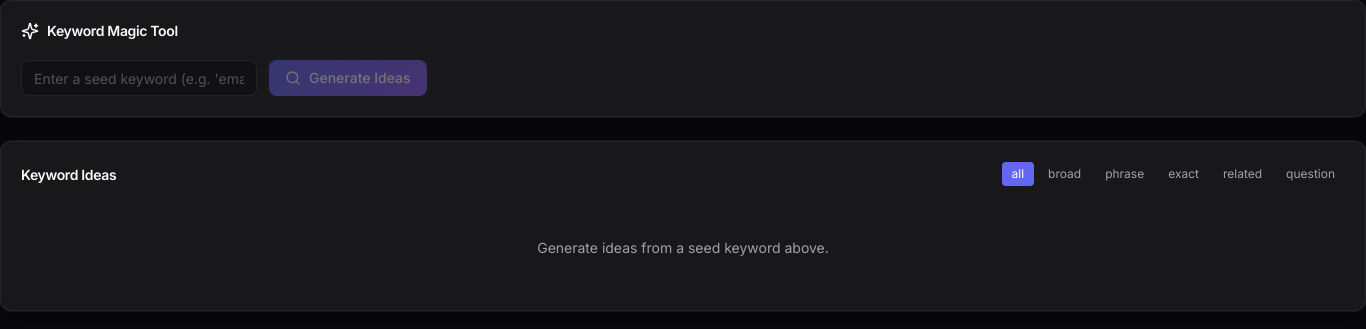
Test: KeywordMagicTool › enables Generate when a seed is typed
Step 1. Type "seo" into the field with placeholder "Enter a seed keyword (e.g. 'email marketing')" → (139, 78), box [21,60,257,96]
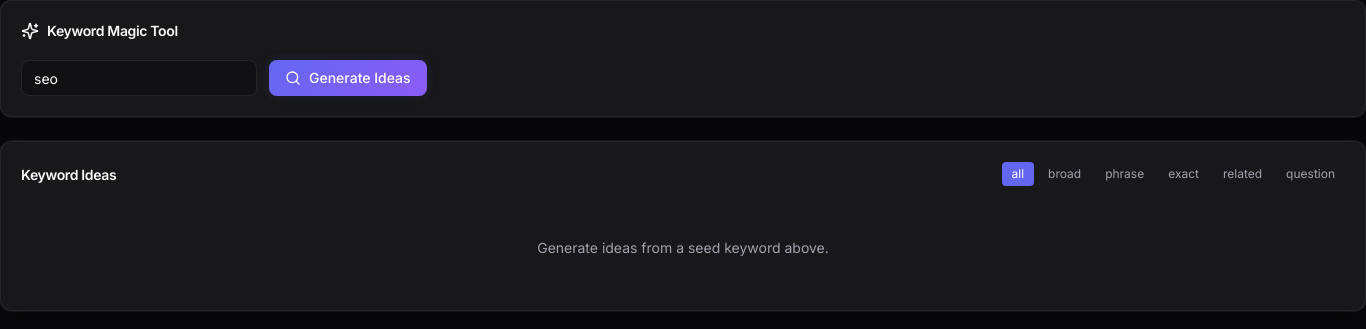
Expected: the button "Generate Ideas" is enabled, [269,60,426,96]
